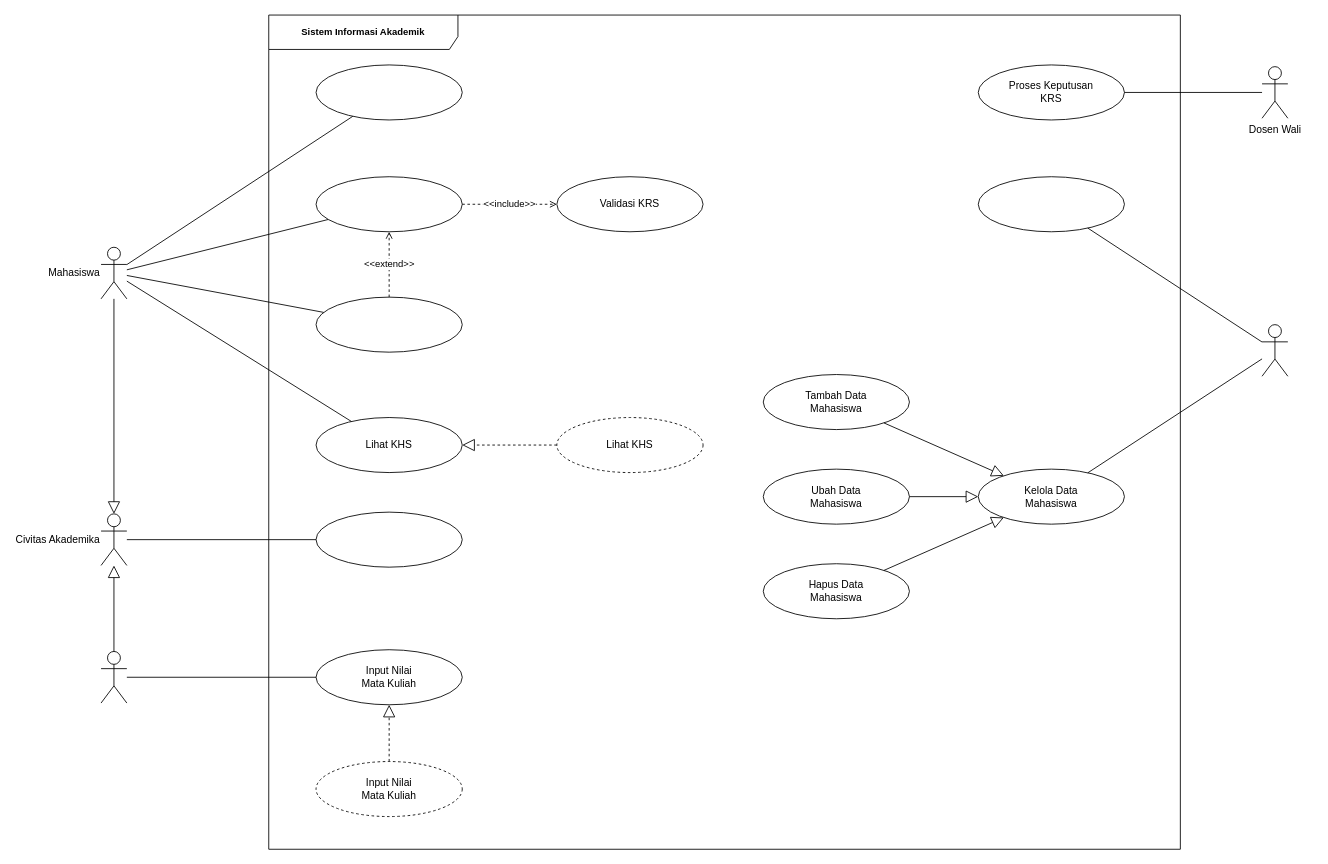
This 1328x864 diagram has some shape labels left out. The centre of each missing label's shape, as x and y in pixels:
"Admin Akademik" goes at (x=1274, y=350).
"Ajukan KRS" goes at (x=388, y=204).
"Dosen" goes at (x=113, y=677).
"Kelola Jadwal Kuliah" goes at (x=1050, y=204).
"Lihat Jadwal Kuliah" goes at (x=388, y=92).
"Lihat Kalender Akademik" goes at (x=388, y=539).
"Unduh Bukti Pengajuan KRS" goes at (x=388, y=324).
